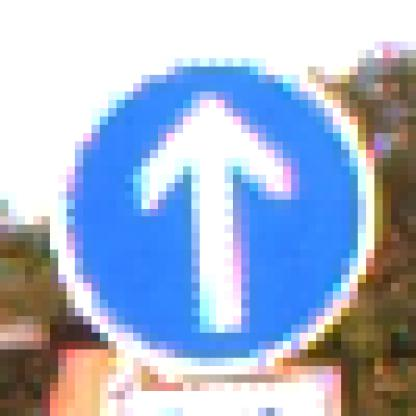AheadOnly: (43, 43, 376, 367)
